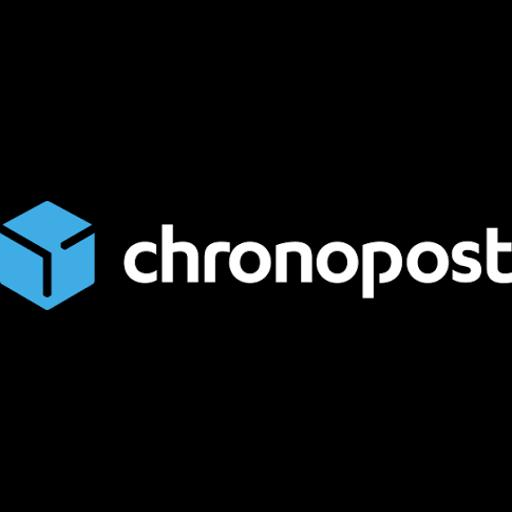Chronopost International: (0, 201, 512, 310)
